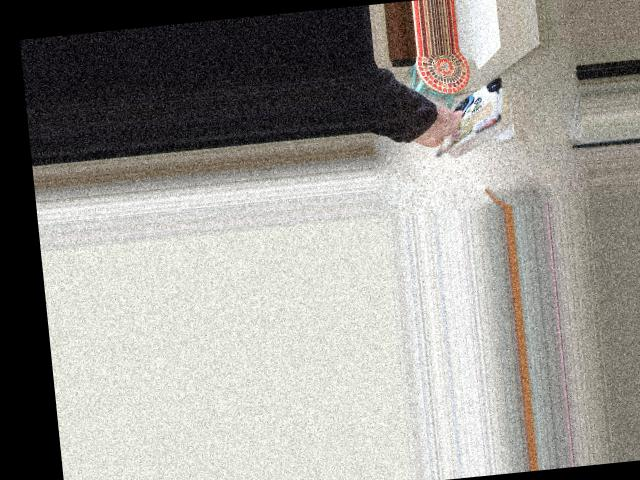cheese: (409, 62, 519, 170)
